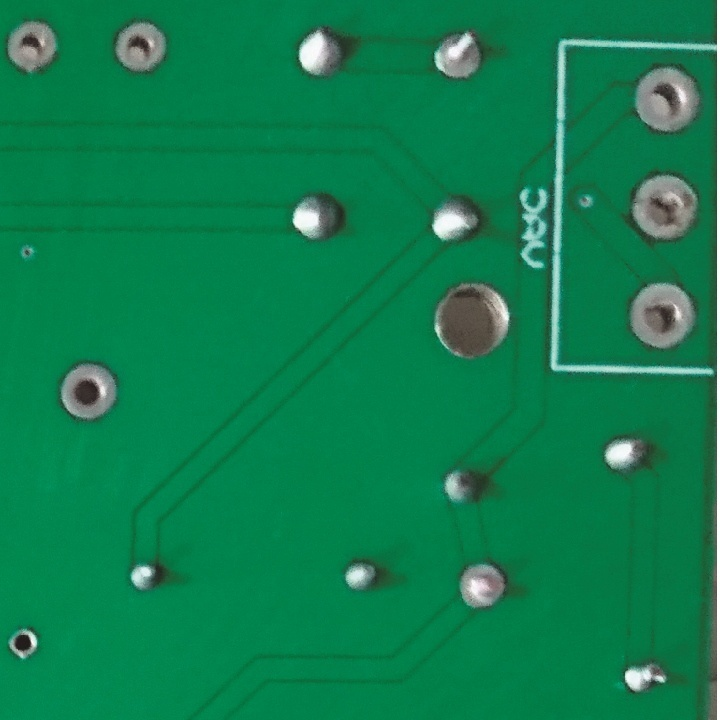F: (633, 61, 707, 136), (630, 172, 701, 246), (627, 281, 698, 352), (54, 358, 124, 424), (111, 17, 170, 77), (4, 16, 59, 78), (430, 29, 488, 83), (453, 559, 507, 613), (7, 626, 37, 660)
